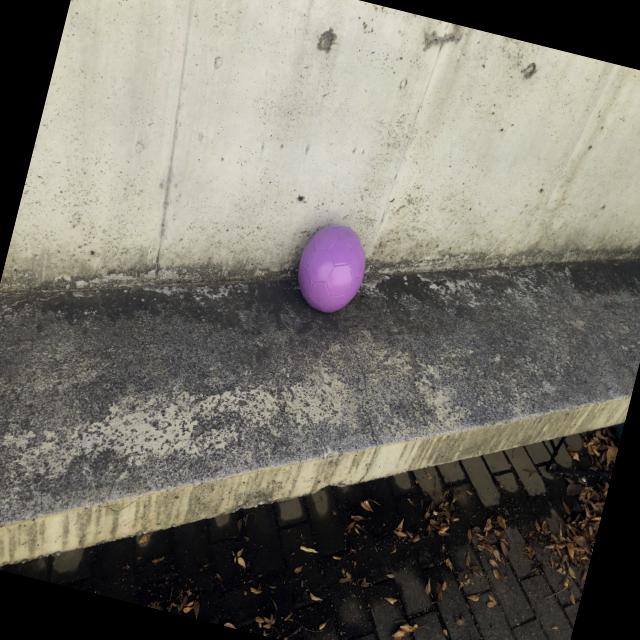purple_ball: (290, 218, 374, 317)
